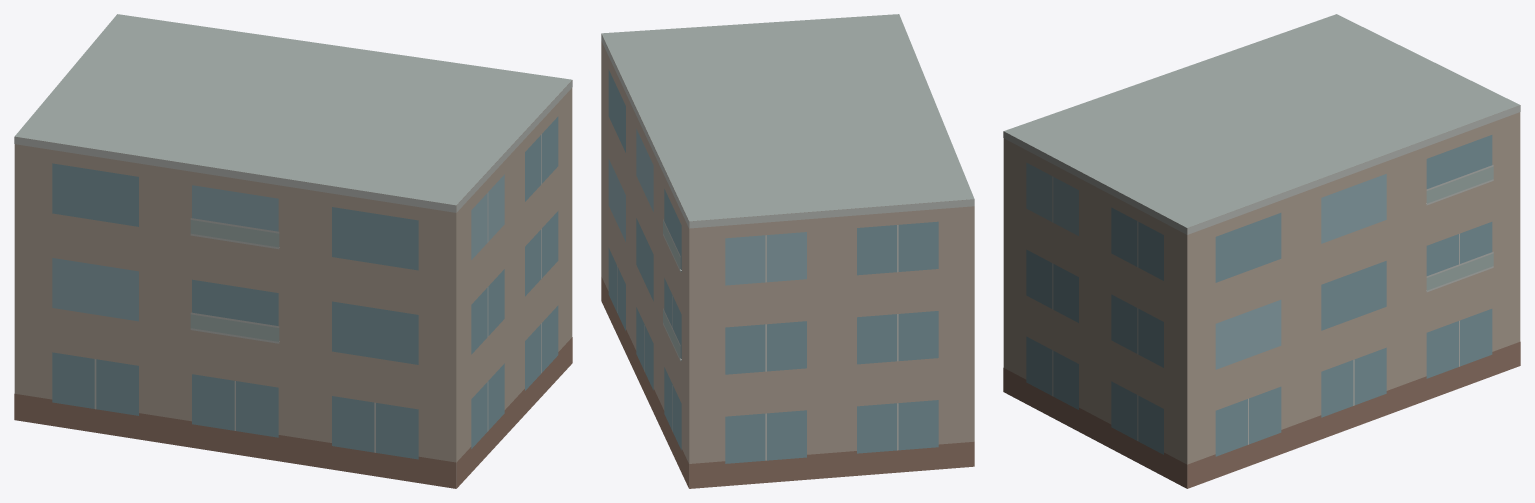
Rendered from survey-upis-32704615.glb.
The picture shows the model from 3 angles, left to right: view 1: azimuth 30°, elevation 25°; view 2: azimuth 150°, elevation 25°; view 3: azimuth 270°, elevation 25°; orthographic projection. The views are drawn at different scales.
Parts seen in each view (by area): view 1: survey-upis-32704615.tmp; view 2: survey-upis-32704615.tmp; view 3: survey-upis-32704615.tmp.
Part boxes in pixels (x1,y1,x2,y2): survey-upis-32704615.tmp: (14, 14, 572, 488); survey-upis-32704615.tmp: (601, 14, 974, 488); survey-upis-32704615.tmp: (1003, 14, 1520, 488).
Size of the model in its own units: 16.11 by 9.15 by 16.44.
